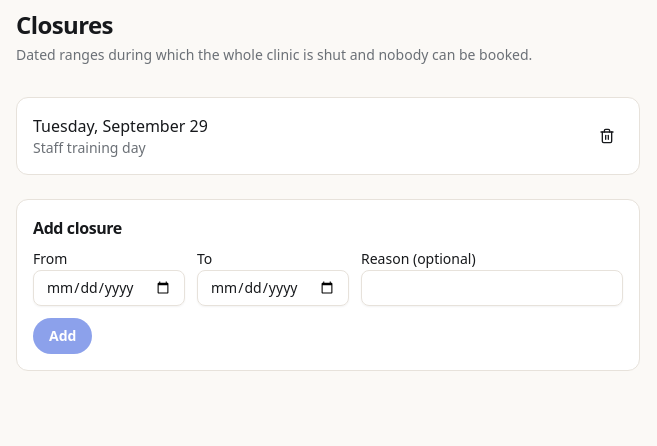
Test: adding a range › shows the server’s own conflict message on a 409, unedited
expect the text "Staff training day" is shown: met, box [33,138,146,157]
Type "2026-11-26" into the date field labelled "From" at (109, 288), box [33,270,185,306]
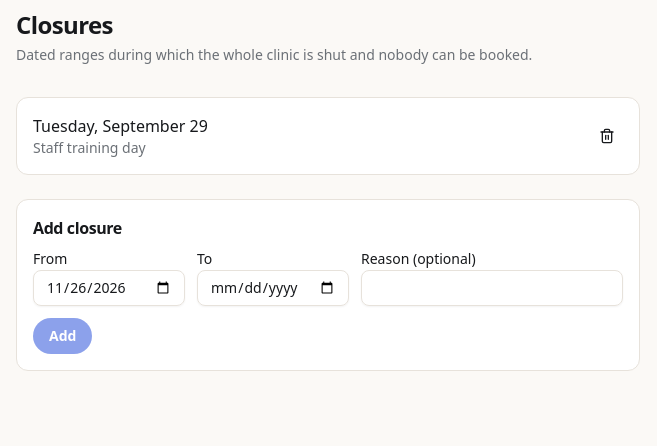
Type "2026-11-26" into the date field labelled "To" at (273, 288), box [197,270,349,306]
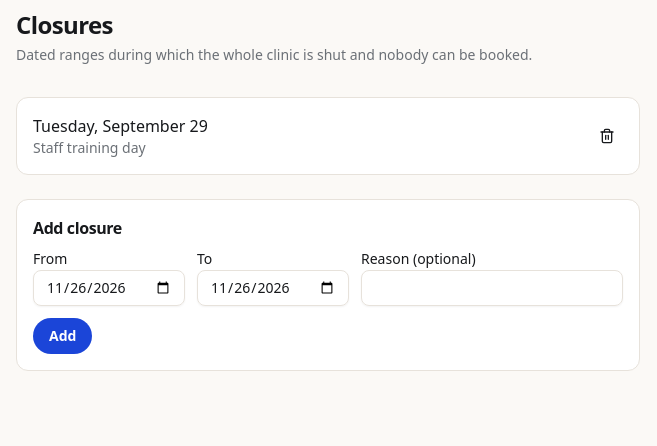
Click the button "Add" at (63, 336), box [33,318,92,354]
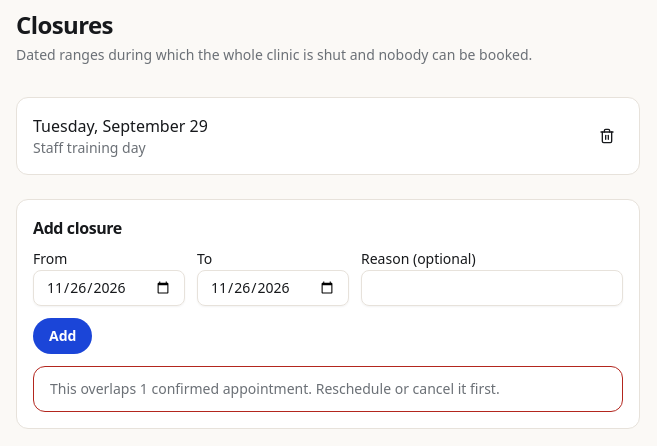
expect the text "This overlaps 1 confirmed appointment. Reschedule or cancel it first." is shown: met, box [50,379,500,398]
